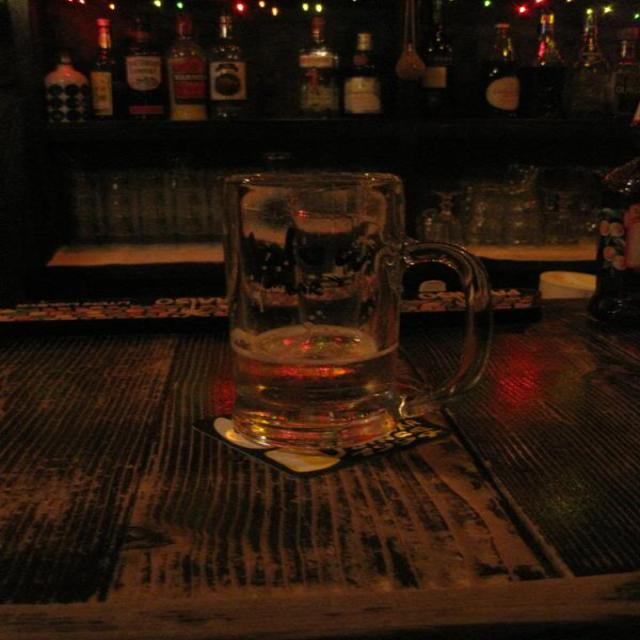Bottle: (186, 6, 251, 129), (88, 10, 145, 135), (386, 5, 445, 119), (283, 6, 342, 118), (421, 10, 474, 115), (139, 4, 180, 136), (574, 0, 619, 119), (32, 44, 95, 128), (529, 8, 573, 123), (487, 4, 530, 114), (346, 10, 387, 119), (176, 9, 213, 125), (610, 2, 640, 115)
Cup: (210, 170, 447, 470)
Table: (4, 261, 640, 640)
